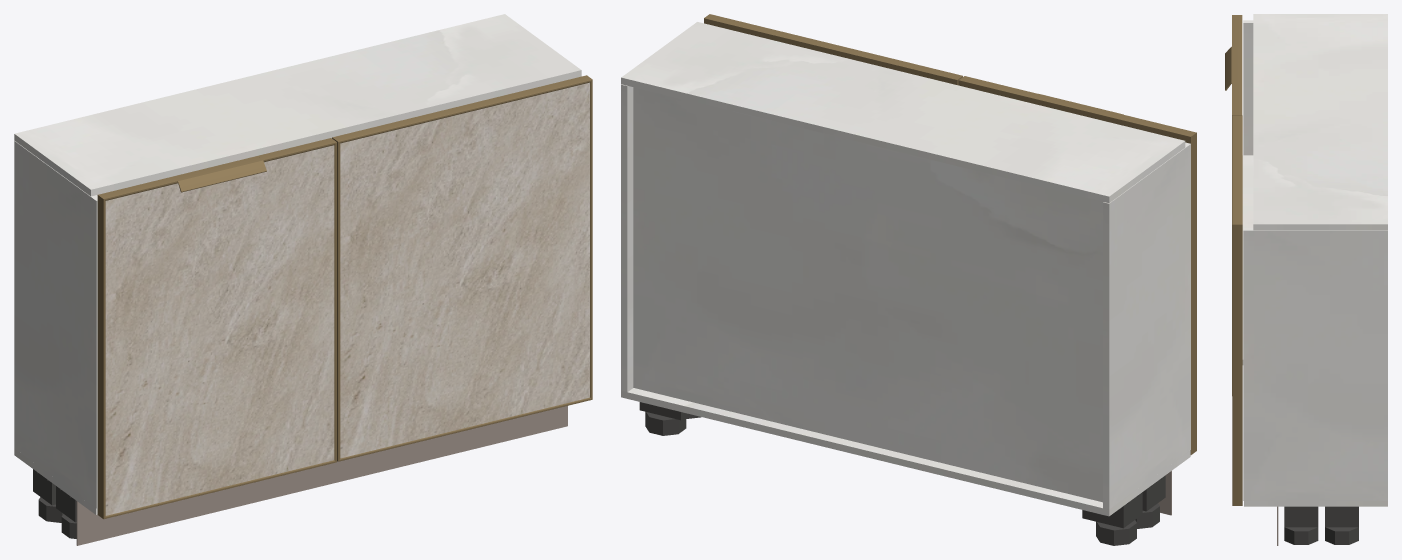
The model's file is BBL-SH-TTS-ST-1SX-RHS-XXX-1150-720-336-15.glb.
3 views of the same model, side by side, from view 1: azimuth 30°, elevation 25°; view 2: azimuth 150°, elevation 25°; view 3: azimuth 270°, elevation 25° (orthographic). The views are drawn at different scales.
Visible parts, largest first — view 1: Object_node_14, Object_node_12, TP_node_1, TP_node, Object_node_16, Extrusion_node_4, Extrusion_node_5, ExtrSplGeo, Extrusion_node, Extrusion_node_8, Extrusion_node_6, Extrusion_node_2 (+2 smaller); view 2: TP_node_3, TP_node_1, TP_node, TP, TP_node_0, Extrusion_node_5, Extrusion_node_4, Extrusion_node, ExtrSplGeo, Plate, Foot, Foot_node; view 3: TP_node_0, TP_node_1, Extrusion_node_6, TP_node, Extrusion_node_5, TP_node_2, TP, Plate_node_1, Plate_node, Extrusion_node, ExtrSplGeo, Foot_node_1 (+2 smaller).
Part boxes in pixels (x1=…): Object_node_14: x1=340, y1=82, x2=589, y2=458; Object_node_12: x1=105, y1=145, x2=334, y2=515; TP_node_1: x1=14, y1=14, x2=581, y2=196; TP_node: x1=14, y1=141, x2=97, y2=508; Object_node_16: x1=76, y1=406, x2=567, y2=545; Extrusion_node_4: x1=97, y1=195, x2=105, y2=518; Extrusion_node_5: x1=332, y1=75, x2=592, y2=143; ExtrSplGeo: x1=172, y1=156, x2=266, y2=192; Extrusion_node: x1=98, y1=138, x2=336, y2=200; Extrusion_node_8: x1=332, y1=137, x2=340, y2=461; Extrusion_node_6: x1=590, y1=80, x2=592, y2=399; Extrusion_node_2: x1=334, y1=143, x2=336, y2=461; TP_node_3: x1=633, y1=87, x2=1102, y2=502; TP_node_1: x1=621, y1=22, x2=1185, y2=202; TP_node: x1=1103, y1=142, x2=1190, y2=509; TP: x1=621, y1=388, x2=1190, y2=516; TP_node_0: x1=621, y1=84, x2=633, y2=392; Extrusion_node_5: x1=704, y1=14, x2=962, y2=83; Extrusion_node_4: x1=1185, y1=133, x2=1196, y2=454; Extrusion_node: x1=959, y1=76, x2=1196, y2=140; ExtrSplGeo: x1=1032, y1=93, x2=1123, y2=123; Plate: x1=1082, y1=492, x2=1142, y2=528; Foot: x1=1096, y1=520, x2=1136, y2=545; Foot_node: x1=645, y1=411, x2=686, y2=435; TP_node_0: x1=1243, y1=228, x2=1387, y2=500; TP_node_1: x1=1253, y1=14, x2=1387, y2=230; Extrusion_node_6: x1=1232, y1=224, x2=1242, y2=505; TP_node: x1=1243, y1=20, x2=1253, y2=155; Extrusion_node_5: x1=1232, y1=115, x2=1242, y2=224; TP_node_2: x1=1242, y1=155, x2=1253, y2=364; TP: x1=1244, y1=501, x2=1387, y2=506; Plate_node_1: x1=1284, y1=506, x2=1318, y2=527; Plate_node: x1=1325, y1=506, x2=1358, y2=527; Extrusion_node: x1=1232, y1=15, x2=1242, y2=114; ExtrSplGeo: x1=1225, y1=46, x2=1242, y2=90; Foot_node_1: x1=1284, y1=527, x2=1318, y2=544.
Size of what is drawn, in the model's own units: 1.15 by 0.82 by 0.376.
6 materials, 3 textured.
